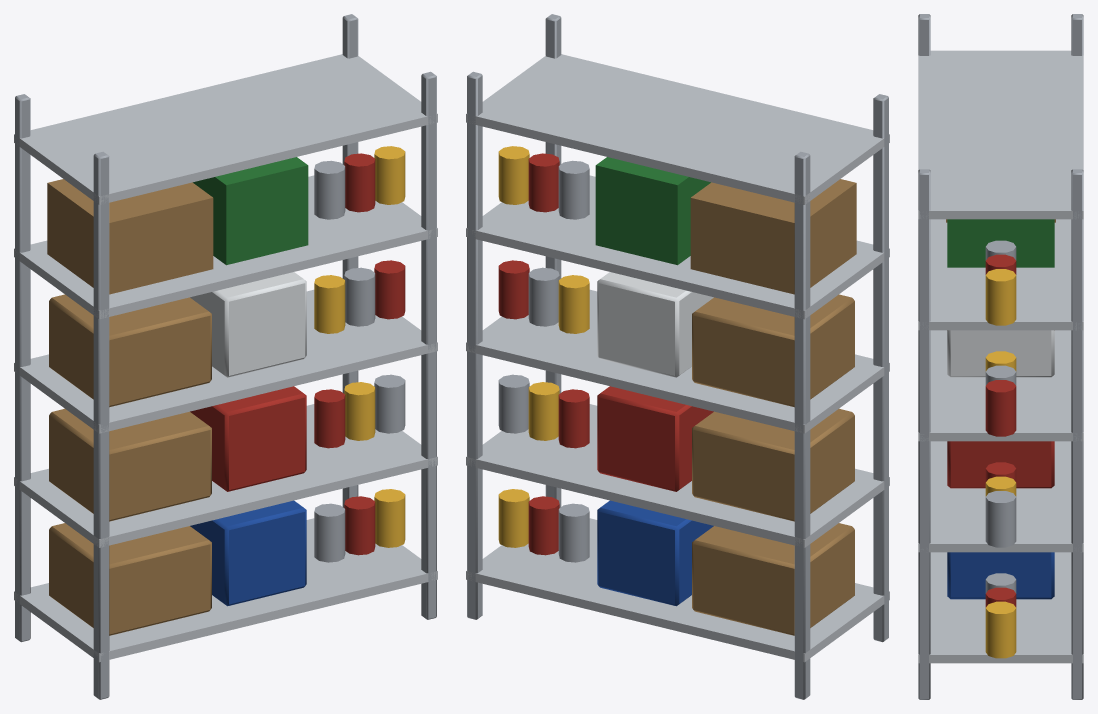
File: galley_storage_shelving.glb
3 views of the same model, side by side, from view 1: azimuth 30°, elevation 25°; view 2: azimuth 150°, elevation 25°; view 3: azimuth 270°, elevation 25° (orthographic). The views are drawn at different scales.
Parts seen in each view (by area): view 1: galley_storage_shelving; view 2: galley_storage_shelving; view 3: galley_storage_shelving.
Boxes of the visible parts, bbox=[...] form: galley_storage_shelving: bbox=[14, 14, 437, 699]; galley_storage_shelving: bbox=[466, 14, 889, 699]; galley_storage_shelving: bbox=[918, 14, 1083, 699].
Bounding box in the file's own units: 1.27 × 1.9 × 0.54.
